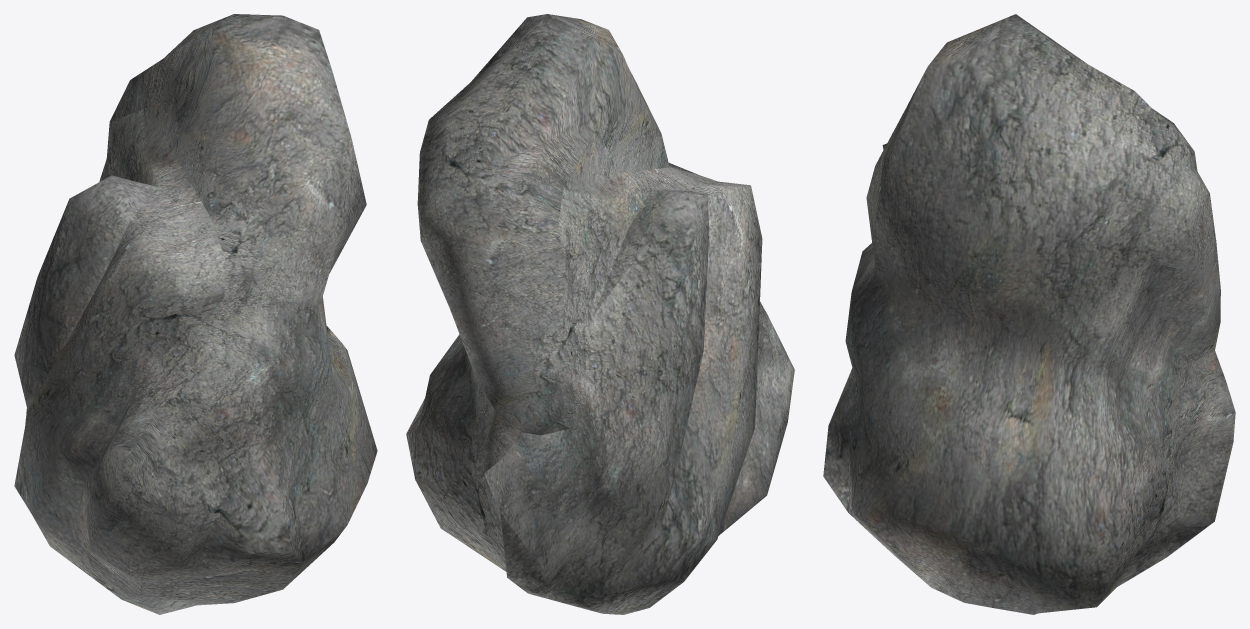
The model's file is rock2.glb.
3 views of the same model, side by side, from view 1: azimuth 30°, elevation 25°; view 2: azimuth 150°, elevation 25°; view 3: azimuth 270°, elevation 25° (orthographic). The views are drawn at different scales.
Visible parts, largest first — view 1: rock2; view 2: rock2; view 3: rock2.
Boxes of the visible parts, bbox=[...] form: rock2: bbox=[14, 14, 377, 614]; rock2: bbox=[406, 14, 794, 614]; rock2: bbox=[823, 14, 1235, 614].
Size of the model in its own units: 2.18 by 3.73 by 2.29.
Materials: 1 (1 with a texture image).
